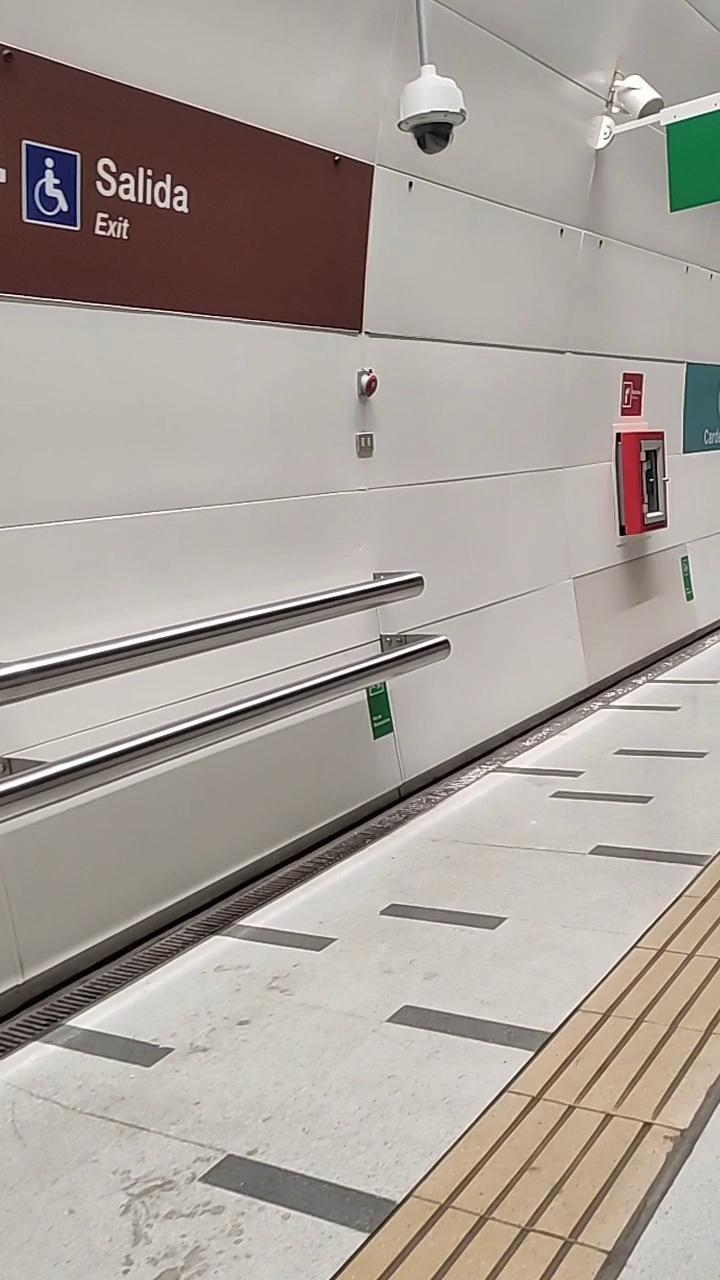handicapped symbol: (24, 138, 88, 235)
